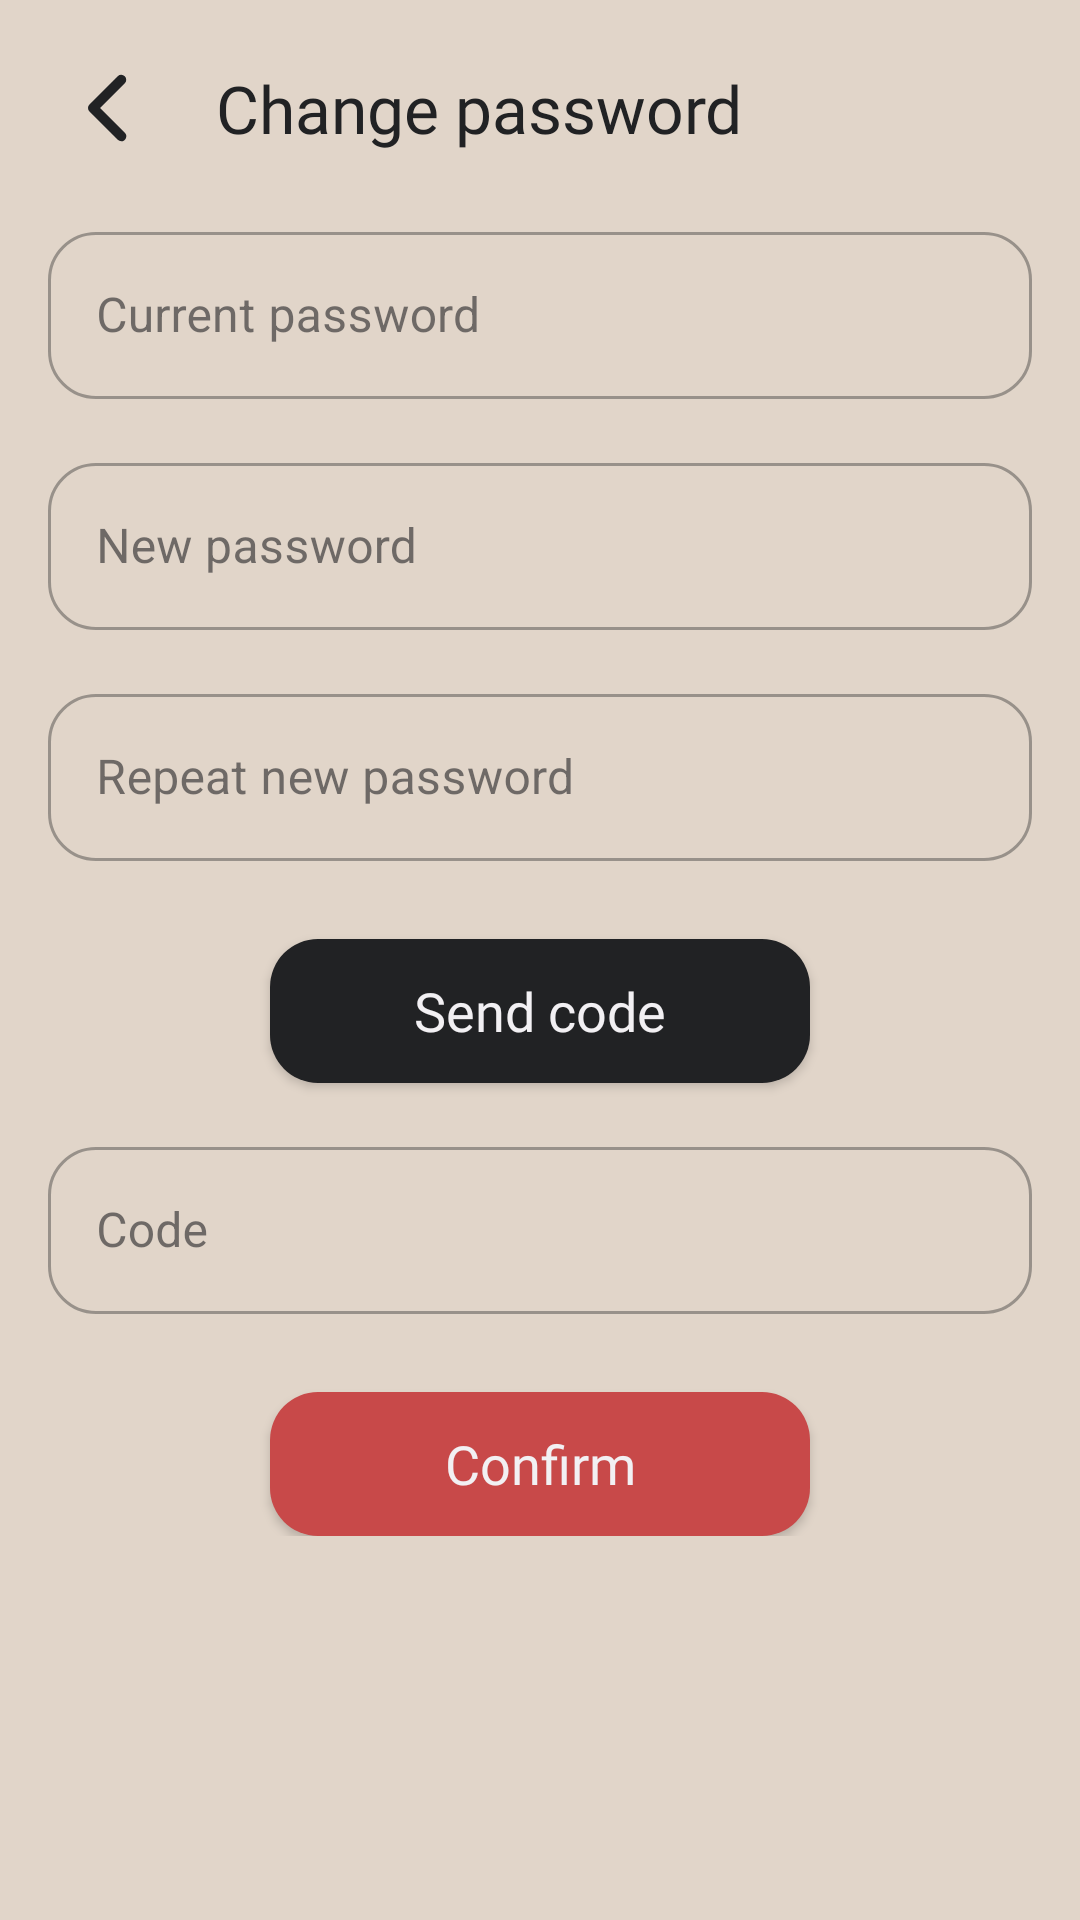

Icon bounding boxes for this 1080w x 1920h phone screenshot, format (x1, y1, x2, y2):
arrow left: (88, 74, 127, 142)
